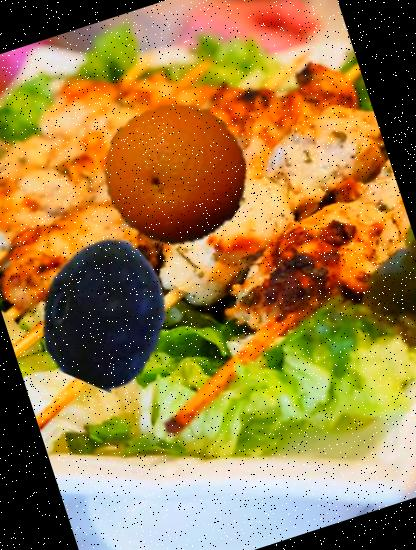Blueberry: (13, 218, 198, 404)
Orange: (84, 84, 265, 265)
